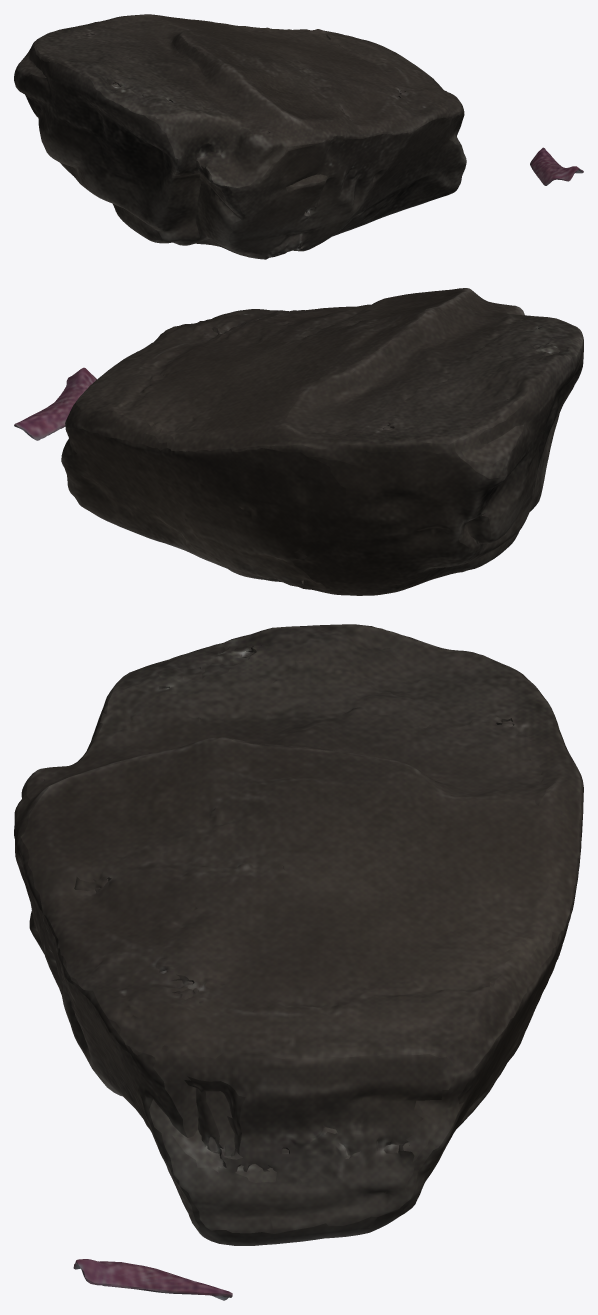
The picture shows the model from 3 angles, top to bottom: view 1: azimuth 30°, elevation 25°; view 2: azimuth 150°, elevation 25°; view 3: azimuth 270°, elevation 25°; orthographic projection. The views are drawn at different scales.
Parts seen in each view (by area): view 1: world; view 2: world; view 3: world.
Boxes of the visible parts, x1,y1,x2,y2 form: world: [14, 14, 583, 259]; world: [14, 288, 583, 595]; world: [14, 624, 583, 1300].
Size of the model in its own units: 0.35 by 0.1378 by 0.2173.
1 material, 1 textured.
